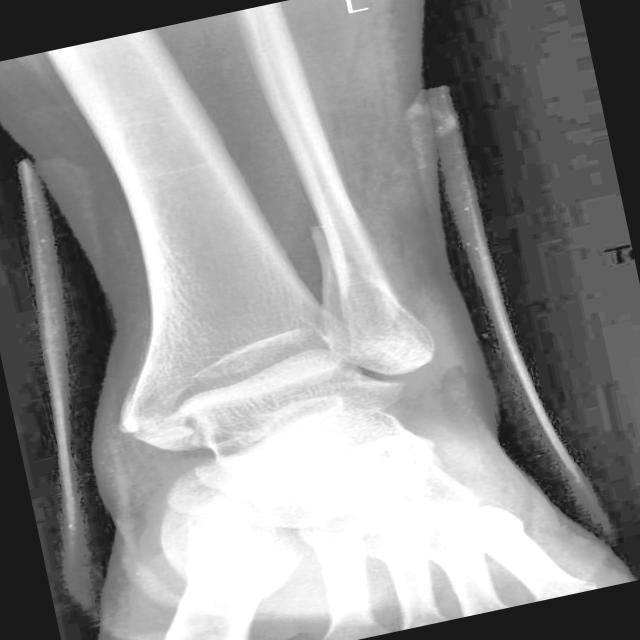Fracture Dislocation: (313, 321, 427, 394)
